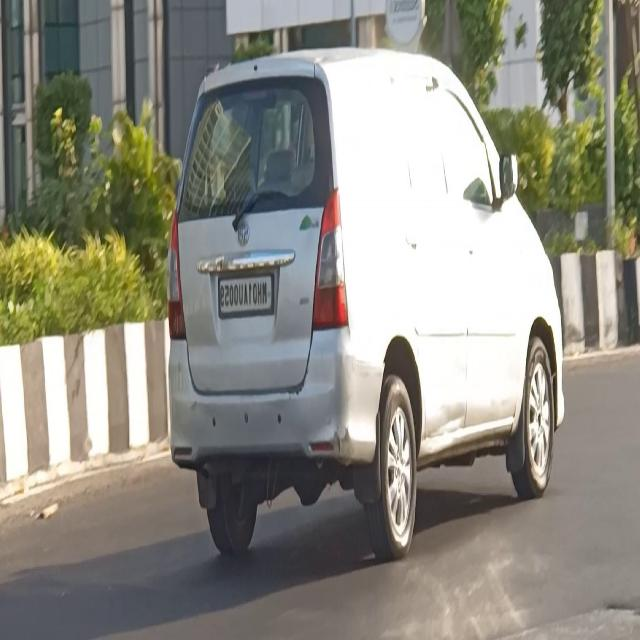license_plate: (216, 268, 274, 324)
